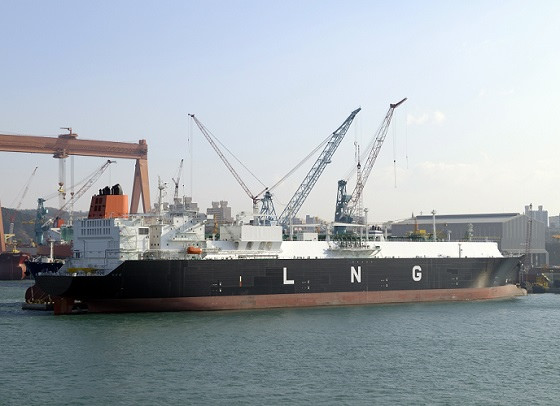LNG_ship: (23, 176, 551, 307)
